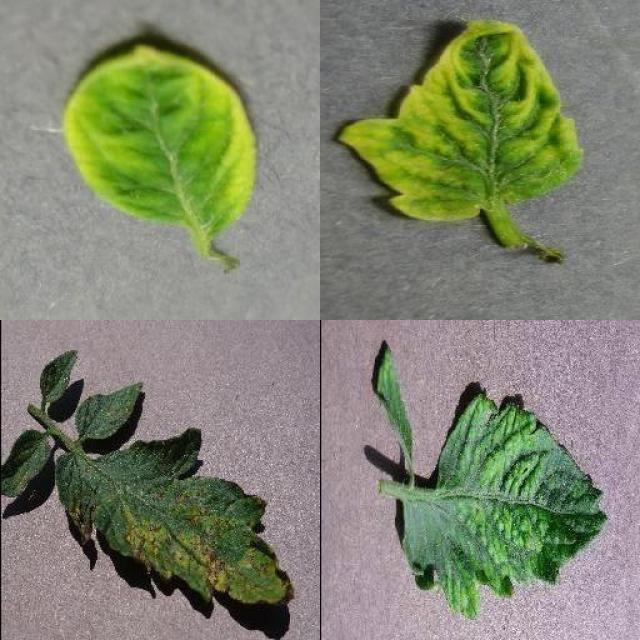Septoria: (55, 431, 295, 604)
